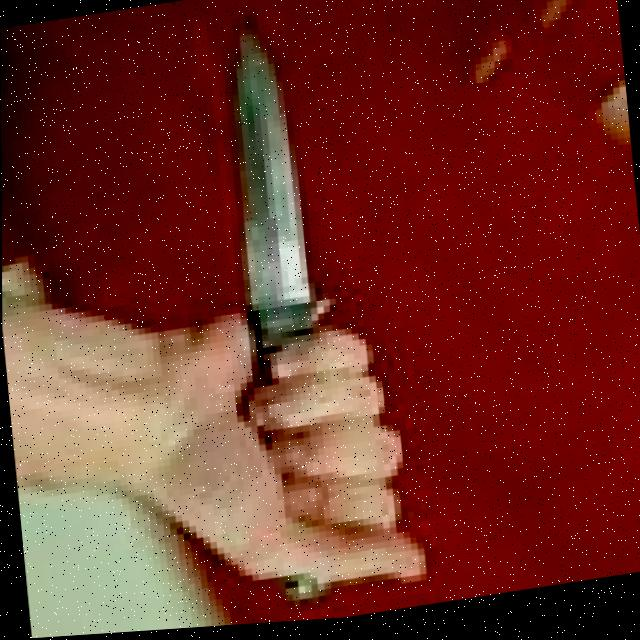knife: (214, 0, 315, 341)
